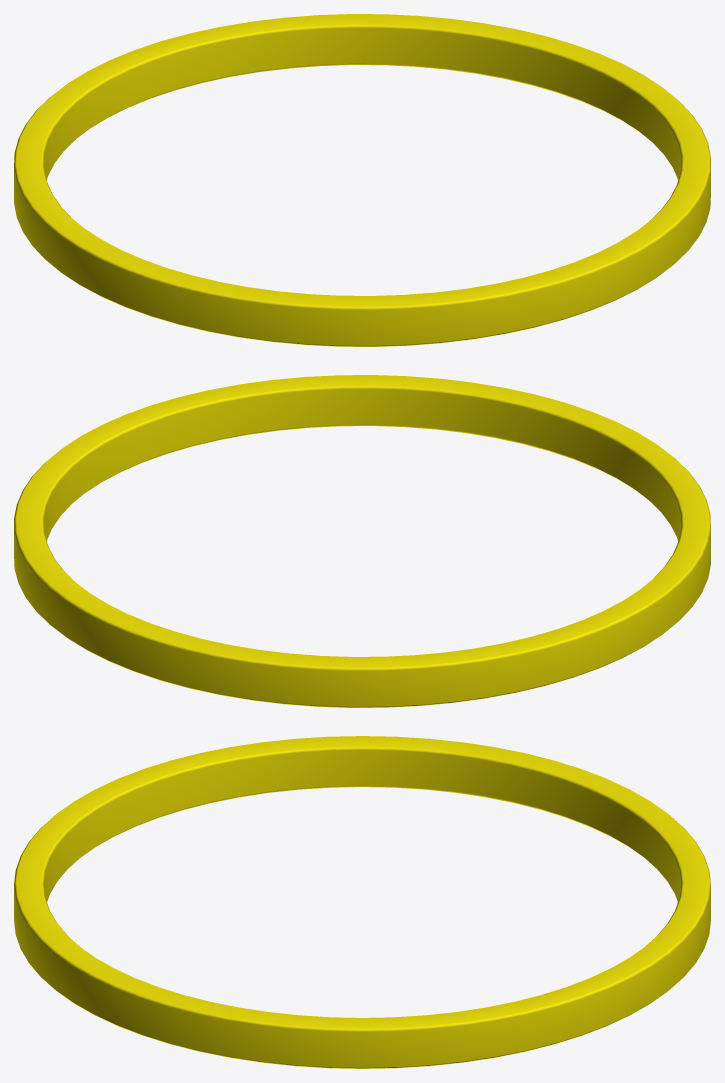
The picture shows the model from 3 angles, top to bottom: view 1: azimuth 30°, elevation 25°; view 2: azimuth 150°, elevation 25°; view 3: azimuth 270°, elevation 25°; orthographic projection.
Parts seen in each view (by area): view 1: seal_body; view 2: seal_body; view 3: seal_body.
Boxes of the visible parts, box(x1,y1,x2,y2) form: seal_body: box(14, 14, 710, 346); seal_body: box(14, 375, 710, 707); seal_body: box(14, 736, 710, 1068).
Size of the model in its own units: 0.2222 by 0.0143 by 0.2222.
